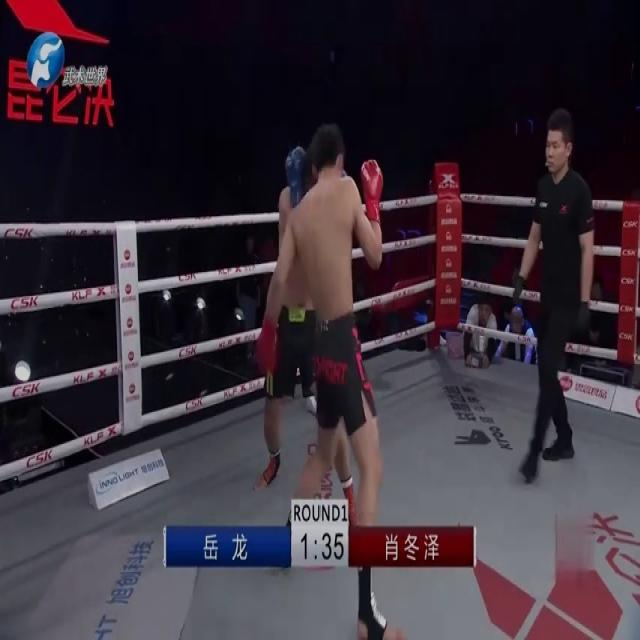fight: (254, 114, 390, 638)
non-fight: (509, 101, 596, 482)
